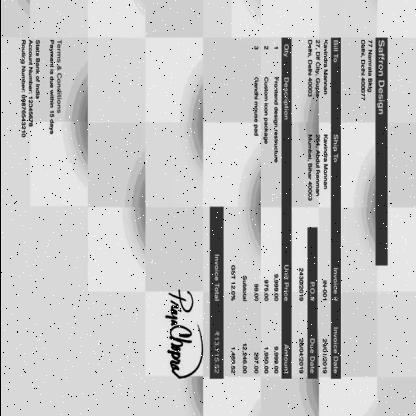Paragraph: (296, 265, 340, 379), (18, 38, 63, 140), (226, 262, 250, 376), (303, 131, 340, 202), (356, 38, 386, 118), (304, 38, 340, 100), (211, 252, 221, 376)
Table: (250, 38, 290, 379)
